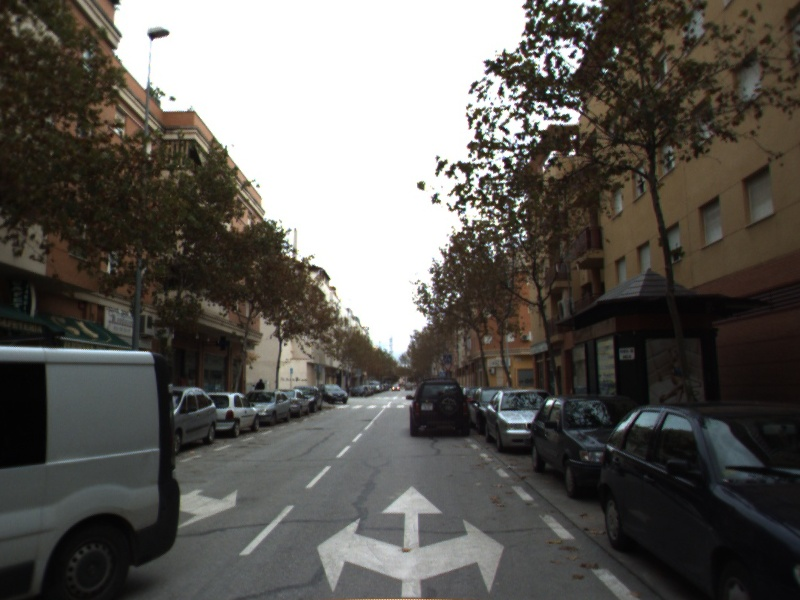STRAIGHT_LEFT_RIGHT: (314, 482, 508, 600)
